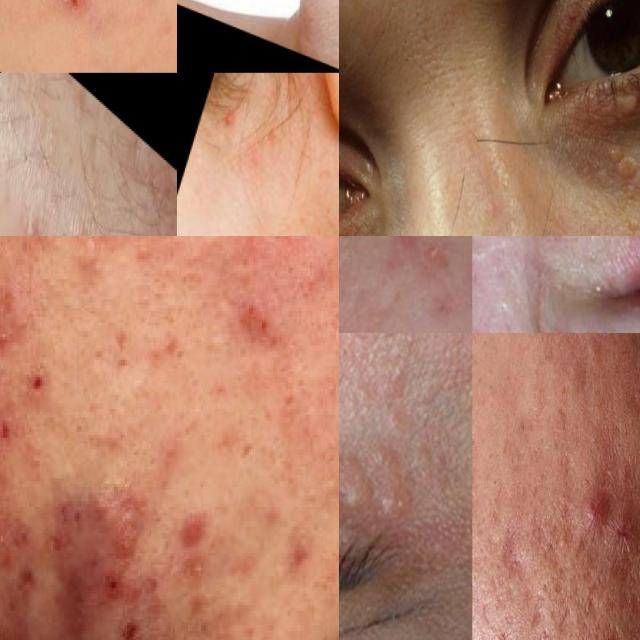acne_scars: (497, 517, 532, 581), (522, 599, 555, 640), (323, 150, 339, 221), (594, 619, 633, 640), (488, 614, 518, 640)
cystic: (574, 473, 605, 537)
folliculitis: (210, 93, 260, 153)
papule: (590, 493, 640, 599)
pustule: (16, 197, 43, 236)
syringoma: (363, 438, 438, 510), (575, 124, 640, 206), (607, 68, 640, 127), (339, 455, 374, 510)
